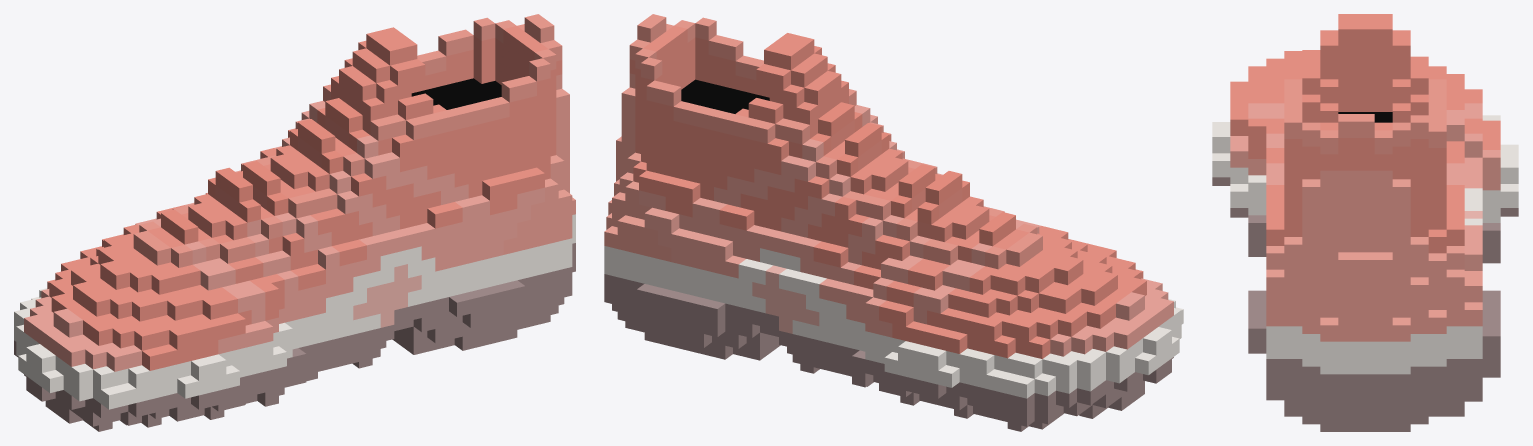
Rendered from Rose Gold.fbx.
3 views of the same model, side by side, from view 1: azimuth 30°, elevation 25°; view 2: azimuth 150°, elevation 25°; view 3: azimuth 270°, elevation 25° (orthographic). The views are drawn at different scales.
Visible parts, largest first — view 1: Untitled; view 2: Untitled; view 3: Untitled.
Boxes of the visible parts, x1,y1,x2,y2 form: Untitled: [14, 14, 575, 431]; Untitled: [604, 14, 1183, 431]; Untitled: [1212, 14, 1518, 431].
Bounding box in the file's own units: 390 × 200 × 170.
